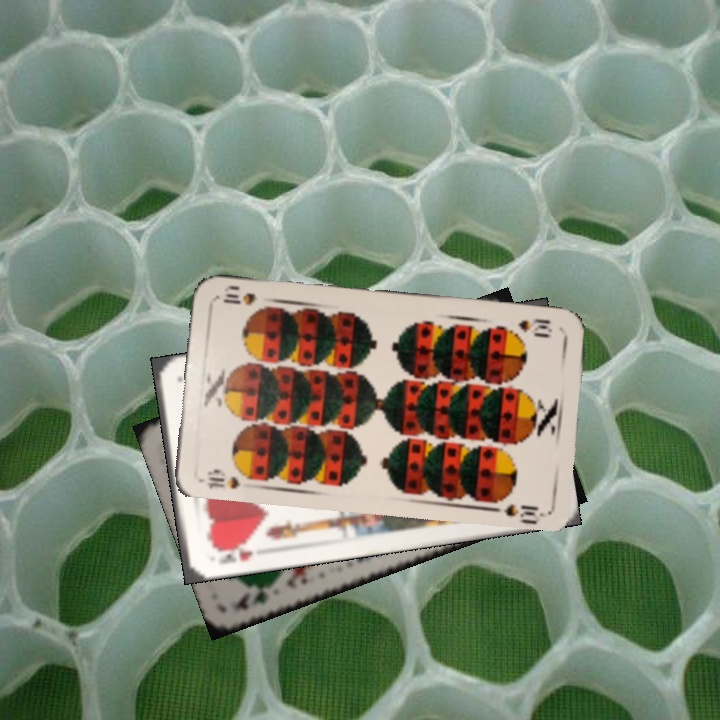GK: (230, 579, 280, 613)
HK: (209, 539, 256, 568)
S10: (197, 466, 256, 492), (514, 314, 555, 338)
